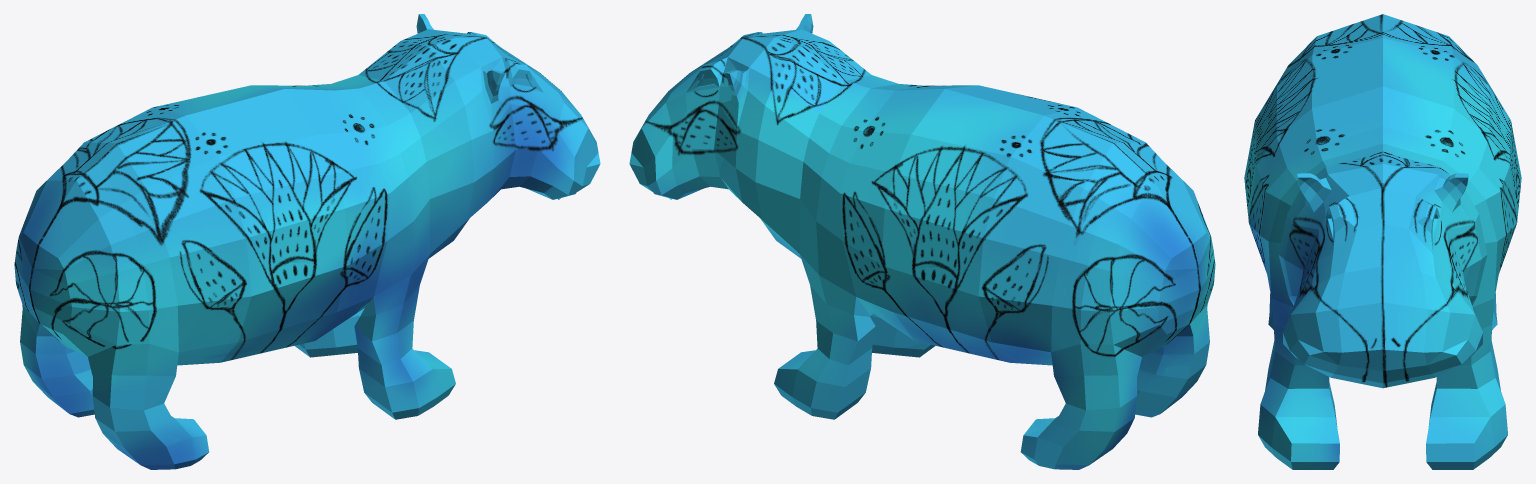
Rendered from HippoFigurine.fbx.
3 renders of one model, left to right at view 1: azimuth 30°, elevation 25°; view 2: azimuth 150°, elevation 25°; view 3: azimuth 270°, elevation 25°, orthographic. The views are drawn at different scales.
Visible parts, largest first — view 1: Hippo_Body; view 2: Hippo_Body; view 3: Hippo_Body.
Boxes of the visible parts, bbox=[...] form: Hippo_Body: bbox=[14, 14, 600, 469]; Hippo_Body: bbox=[629, 14, 1215, 469]; Hippo_Body: bbox=[1244, 14, 1521, 469].
Size of the model in its own units: 23.57 by 12.79 by 9.7.
1 material, 1 textured.
